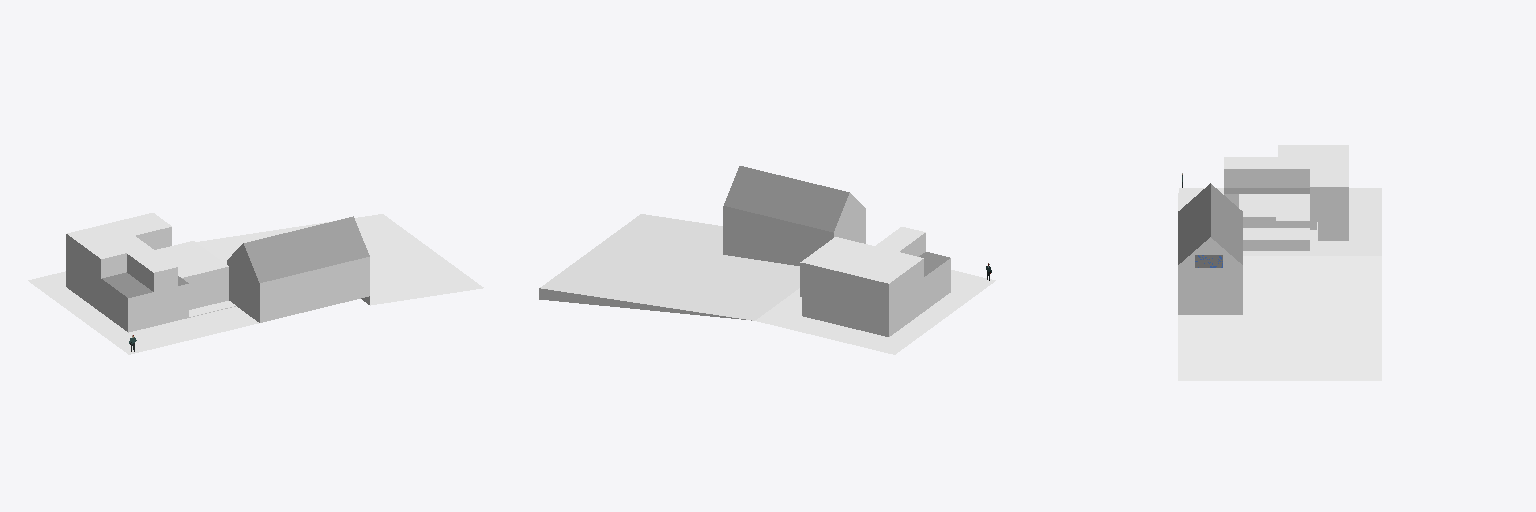
The picture shows the model from 3 angles: view 1: azimuth 30°, elevation 25°; view 2: azimuth 150°, elevation 25°; view 3: azimuth 270°, elevation 25°; orthographic projection.
Visible parts, largest first — view 1: SketchUp_ID204, SketchUp.001_ID212, SketchUp.003_ID240; view 2: SketchUp_ID204, SketchUp.001_ID212; view 3: SketchUp_ID204, SketchUp.001_ID212.
Boxes of the visible parts, x1=… form: SketchUp_ID204: x1=28, y1=213, x2=483, y2=354; SketchUp.001_ID212: x1=244, y1=216, x2=369, y2=282; SketchUp.003_ID240: x1=102, y1=272, x2=152, y2=297; SketchUp_ID204: x1=539, y1=193, x2=995, y2=354; SketchUp.001_ID212: x1=724, y1=166, x2=849, y2=232; SketchUp_ID204: x1=1178, y1=145, x2=1381, y2=380; SketchUp.001_ID212: x1=1178, y1=183, x2=1242, y2=264.
Size of the model in its own units: 35.69 by 9.53 by 17.69.